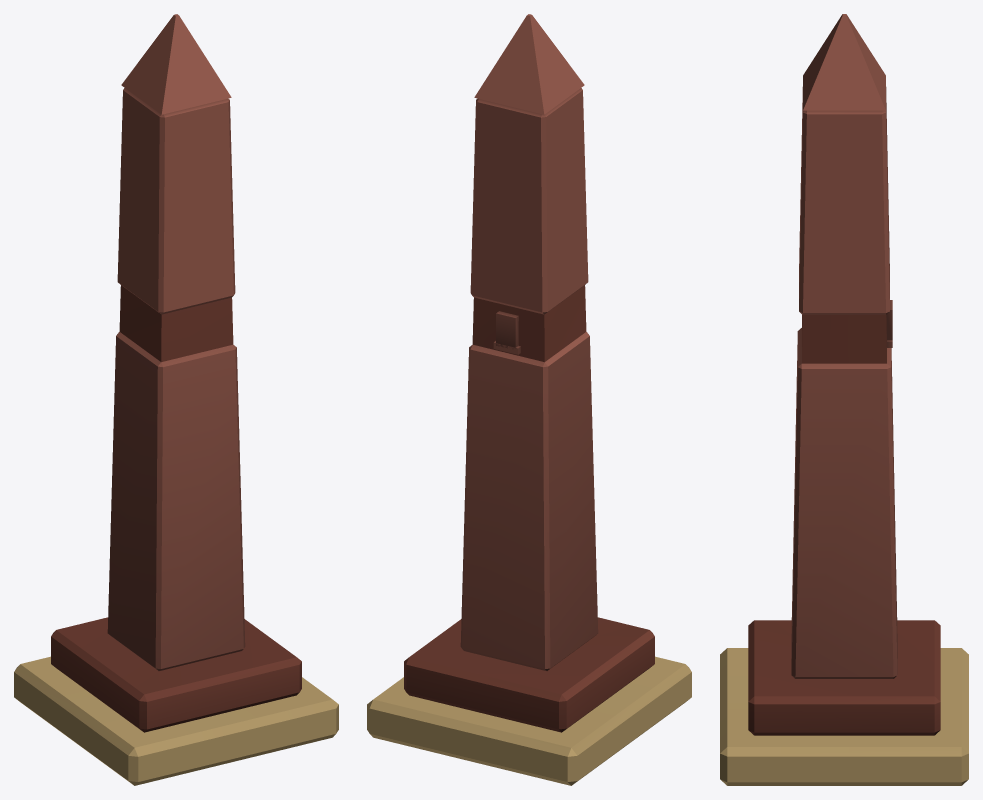
The model's file is obelisk.glb.
3 renders of one model, left to right at view 1: azimuth 30°, elevation 25°; view 2: azimuth 150°, elevation 25°; view 3: azimuth 270°, elevation 25°, orthographic. The views are drawn at different scales.
Parts seen in each view (by area): view 1: obelisk_granite_red, obelisk_granite_deep, obelisk_stone_warm; view 2: obelisk_granite_red, obelisk_granite_deep, obelisk_stone_warm; view 3: obelisk_granite_red, obelisk_granite_deep, obelisk_stone_warm.
Part boxes in pixels (x1,y1,x2,y2): obelisk_granite_red: (107, 14, 245, 670); obelisk_granite_deep: (51, 285, 301, 732); obelisk_stone_warm: (14, 656, 338, 785); obelisk_granite_red: (460, 14, 598, 670); obelisk_granite_deep: (404, 285, 654, 732); obelisk_stone_warm: (367, 656, 691, 785); obelisk_granite_red: (791, 14, 897, 678); obelisk_granite_deep: (748, 314, 940, 735); obelisk_stone_warm: (720, 648, 968, 785).
Bounding box in the file's own units: 0.75 × 2.4 × 0.75.
